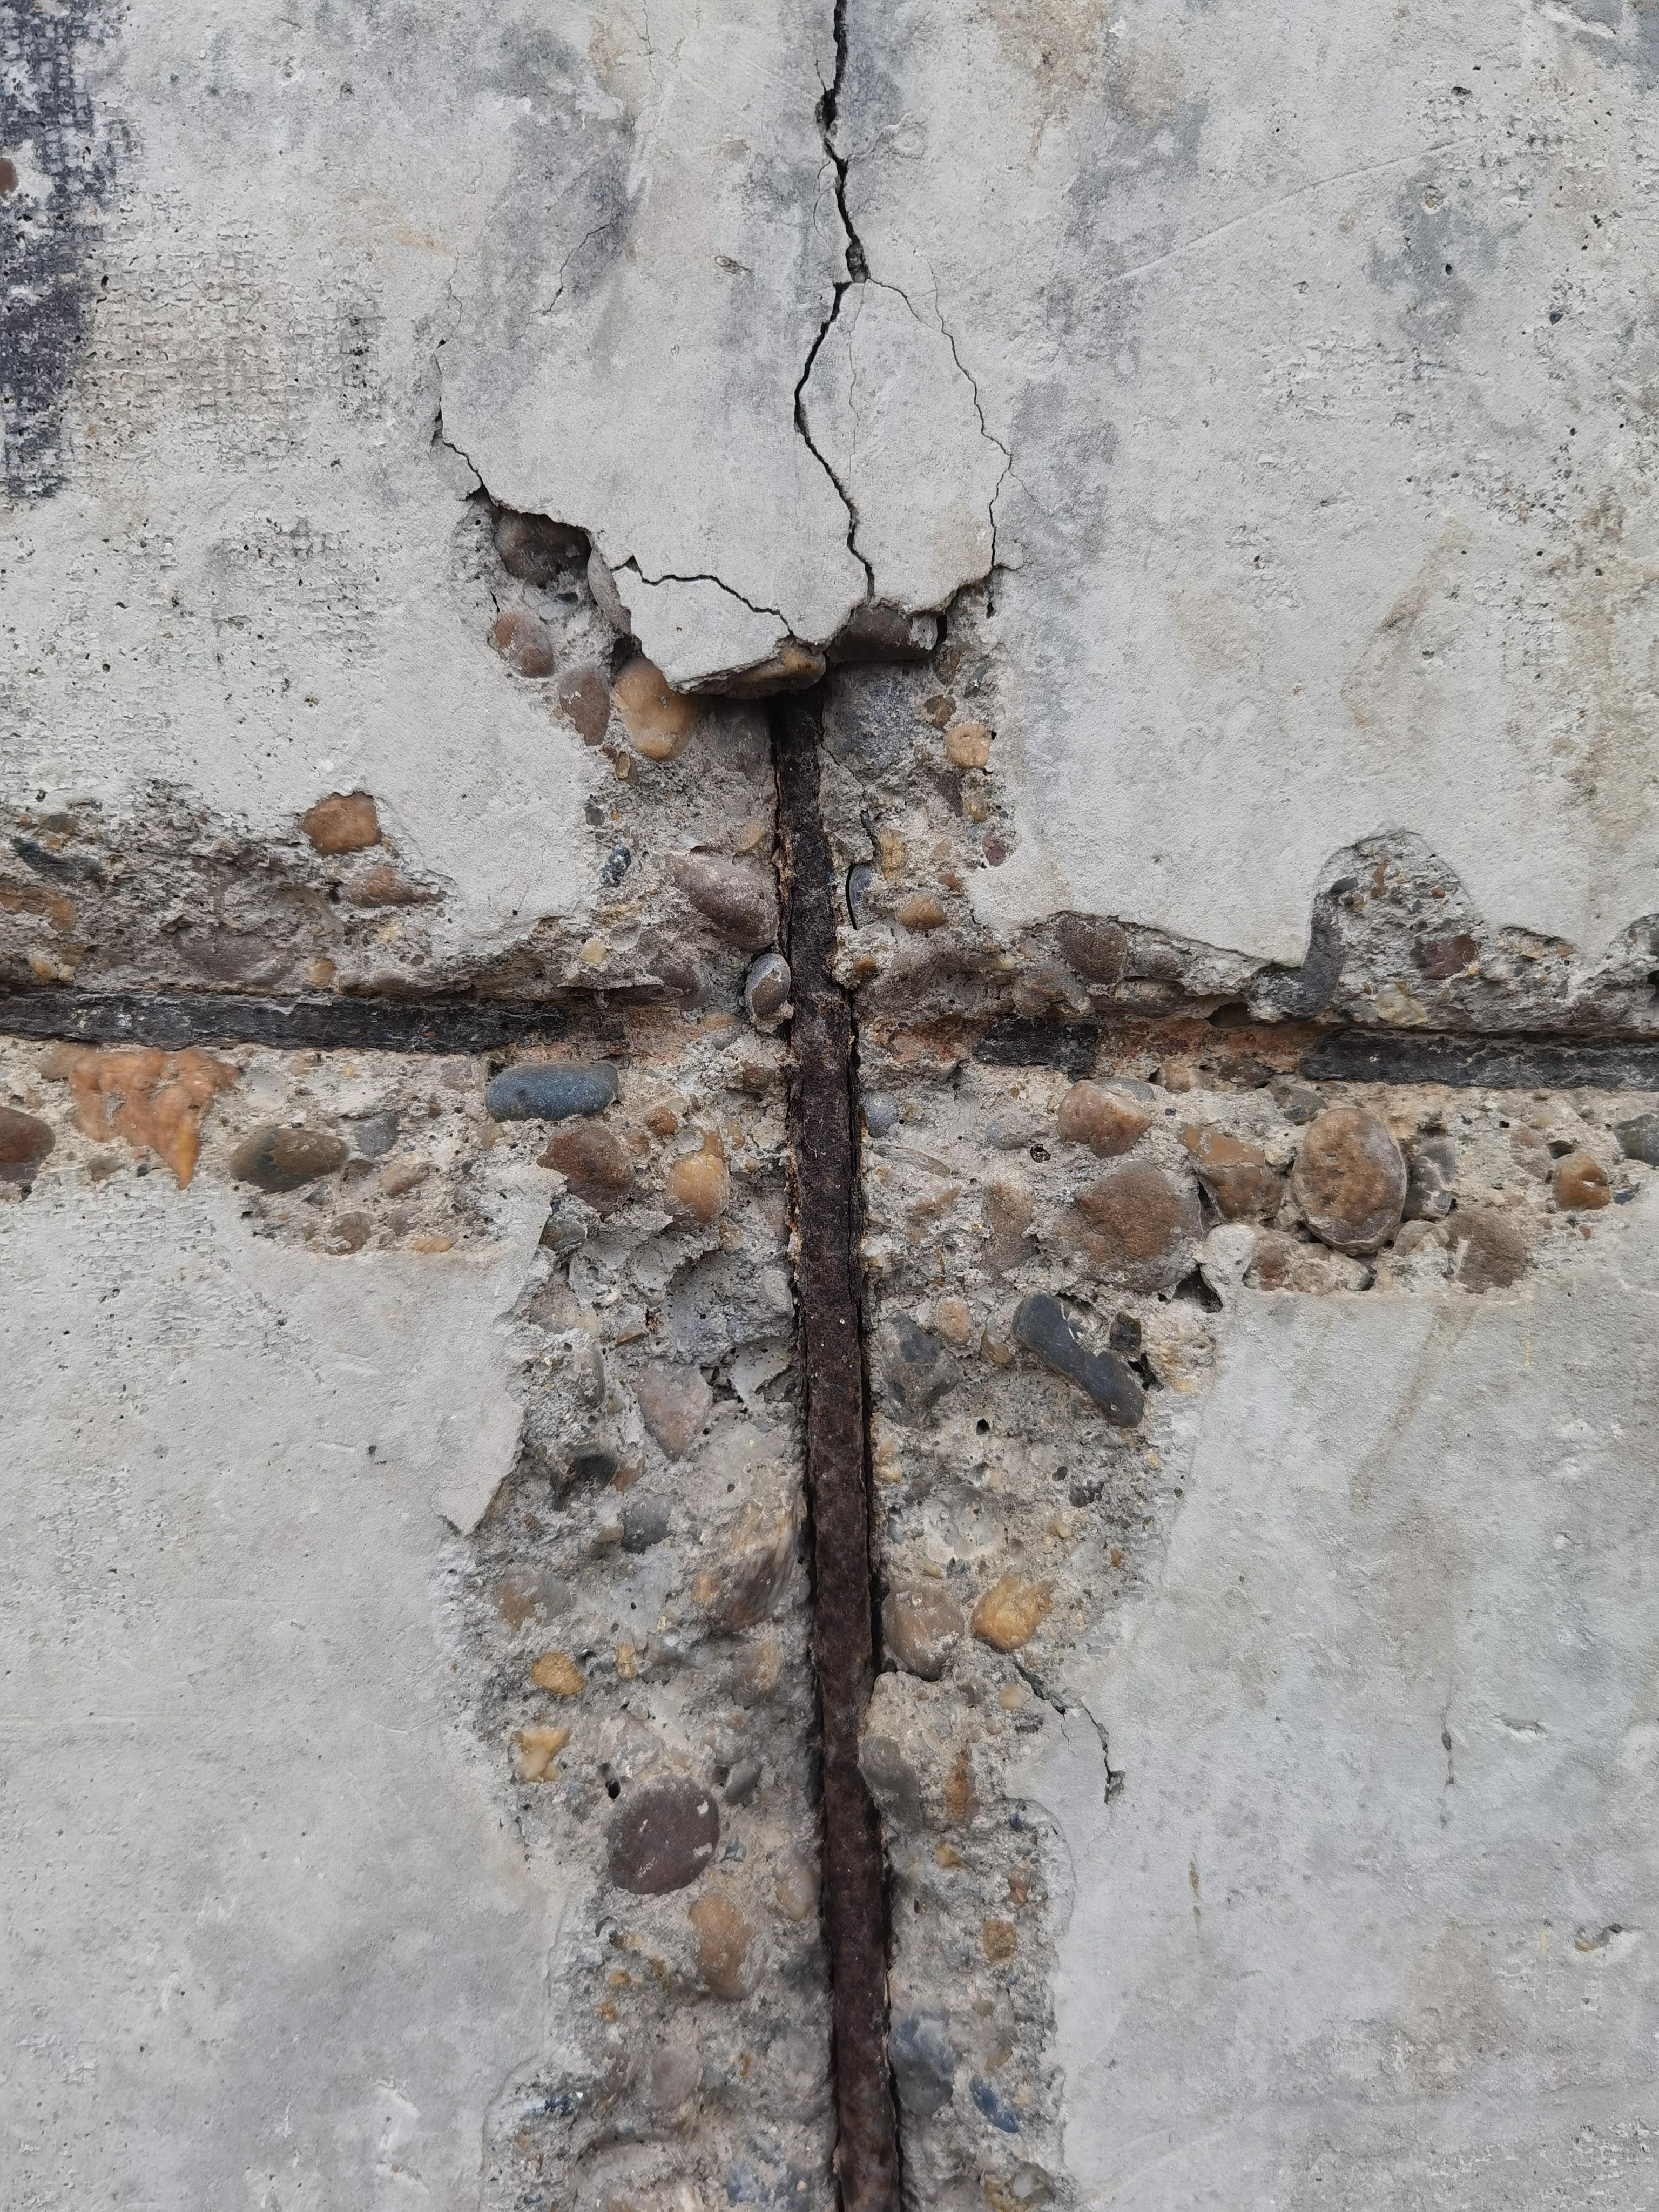rebar: (751, 686, 925, 2212), (934, 1012, 1656, 1101), (0, 984, 692, 1055)
separation: (423, 0, 1011, 690)
spall: (443, 481, 1206, 2209), (0, 775, 1659, 1296)
